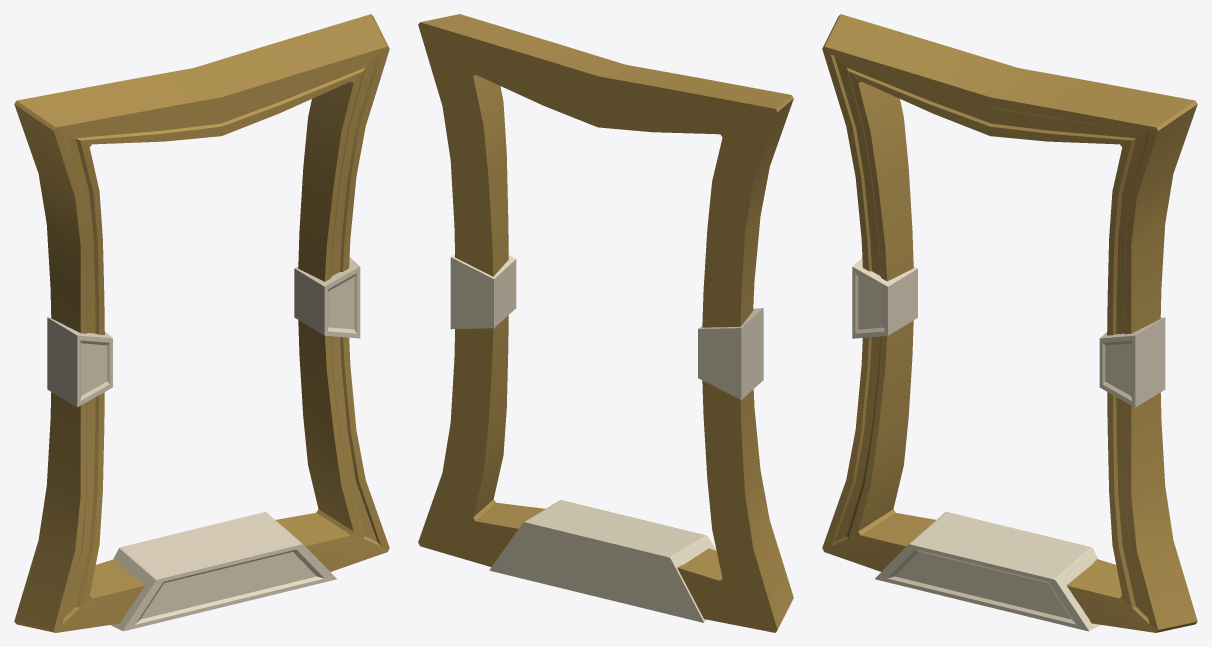
Rendered from MiscFrame3UV.fbx.
The picture shows the model from 3 angles, left to right: view 1: azimuth 30°, elevation 25°; view 2: azimuth 150°, elevation 25°; view 3: azimuth 330°, elevation 25°; orthographic projection.
Visible parts, largest first — view 1: SmallPictureFrame1; view 2: SmallPictureFrame1; view 3: SmallPictureFrame1.
Part boxes in pixels (left/top/right/bottom): SmallPictureFrame1: left=14, top=14, right=389, bottom=632; SmallPictureFrame1: left=418, top=14, right=793, bottom=632; SmallPictureFrame1: left=822, top=14, right=1197, bottom=632.
Bounding box in the file's own units: 155 × 218 × 28.08.
